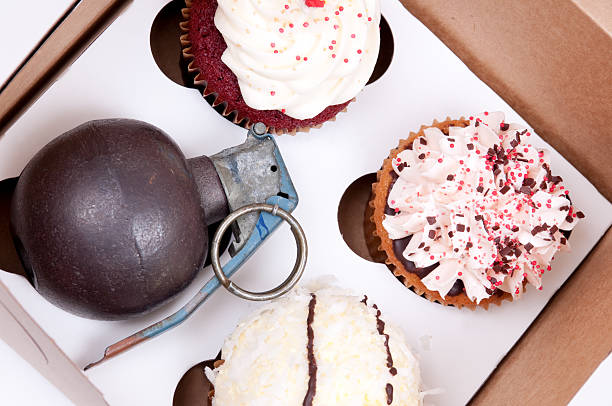e1: (2, 116, 310, 365)
